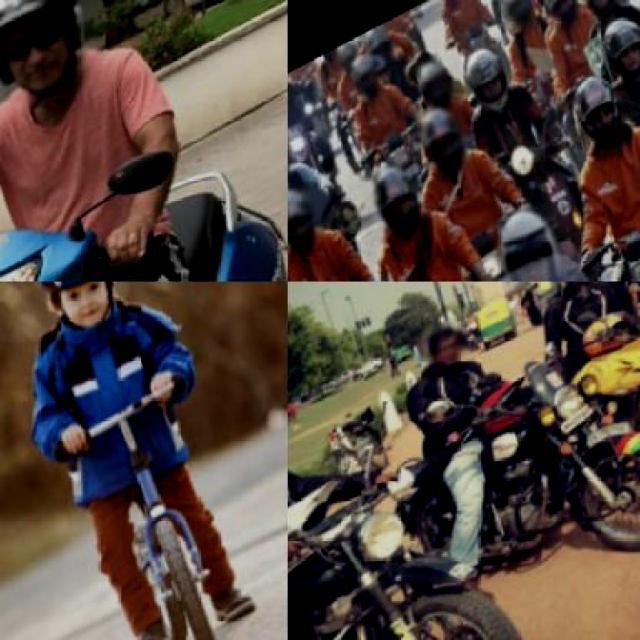With Helmet: (0, 0, 129, 142), (11, 282, 157, 358), (548, 57, 638, 177), (480, 197, 592, 280), (446, 34, 534, 137), (358, 153, 444, 253), (410, 96, 485, 192), (288, 177, 342, 269), (410, 53, 465, 121), (596, 15, 638, 97), (356, 22, 407, 78), (568, 0, 634, 38), (346, 51, 391, 106), (490, 0, 544, 43), (532, 0, 589, 38), (329, 38, 369, 82), (288, 106, 303, 194)
Without Helmet: (415, 316, 482, 384), (552, 282, 602, 304)
